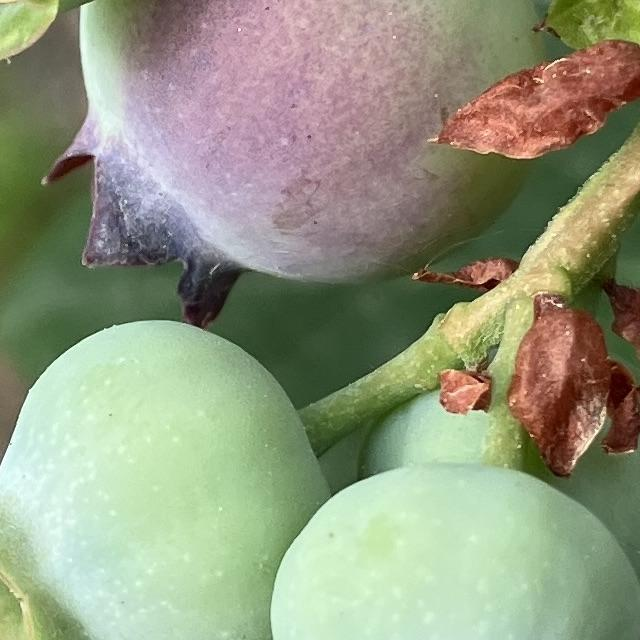Blueberries: (47, 0, 557, 289), (0, 313, 326, 640), (263, 455, 640, 640)
